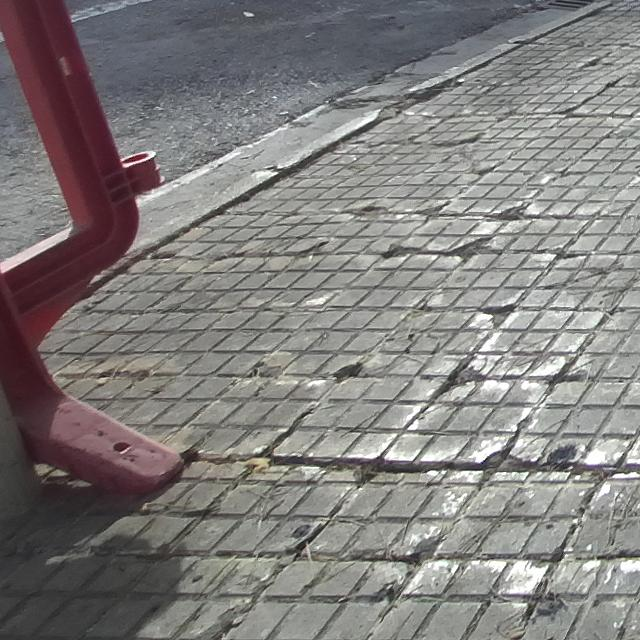calcada_quebrada: (481, 445, 612, 481), (250, 444, 354, 484), (357, 447, 480, 480), (424, 353, 493, 403), (273, 517, 333, 570), (393, 528, 451, 579), (532, 353, 596, 397), (386, 299, 450, 339), (437, 233, 501, 269), (464, 300, 521, 336), (399, 200, 469, 225), (480, 199, 533, 227), (430, 130, 487, 155), (286, 237, 333, 267), (374, 238, 424, 265), (338, 202, 391, 226), (326, 358, 366, 386), (558, 91, 601, 117), (612, 444, 640, 482), (547, 241, 586, 263), (467, 162, 505, 182), (597, 73, 628, 90), (576, 55, 603, 73), (392, 134, 421, 146)
